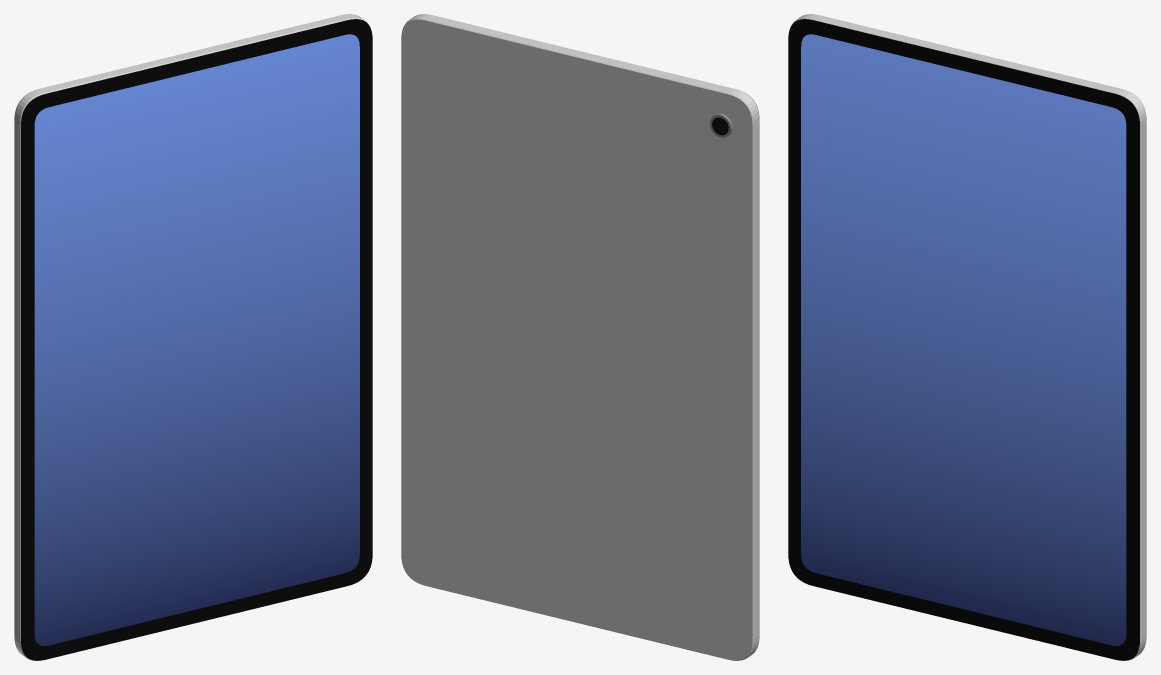
Rendered from SS-TABS11.glb.
3 renders of one model, left to right at view 1: azimuth 30°, elevation 25°; view 2: azimuth 150°, elevation 25°; view 3: azimuth 330°, elevation 25°, orthographic.
Parts seen in each view (by area): view 1: screen, front, body; view 2: back-plate, body; view 3: screen, front, body.
Part boxes in pixels (left/top/right/bottom): screen: left=34, top=34, right=359, bottom=645; front: left=21, top=19, right=372, bottom=660; body: left=14, top=14, right=371, bottom=660; back-plate: left=401, top=19, right=752, bottom=660; body: left=402, top=14, right=759, bottom=660; screen: left=801, top=34, right=1126, bottom=645; front: left=788, top=19, right=1139, bottom=660; body: left=789, top=14, right=1146, bottom=660.
Bounding box in the file's own units: 0.1653 × 0.2538 × 0.00735.
